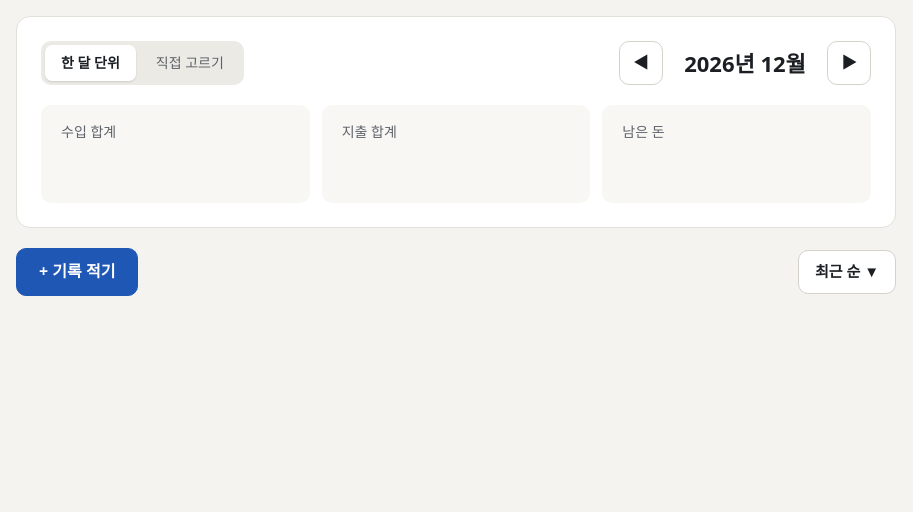
Test: T-413 앞뒤 달과 한 달 단위로 돌아오기 › 2026년 12월에서 ▶ → 2027년 1월
Click the button named "다음 달": {"x": 849, "y": 63} x1=827 y1=41 x2=871 y2=85
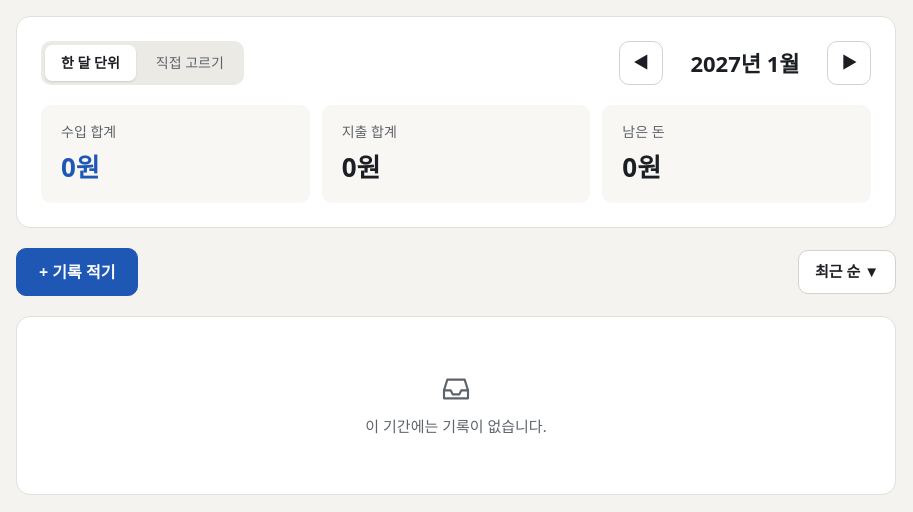
Expected: the text "2027년 1월" is shown, x1=690 y1=48 x2=800 y2=78
